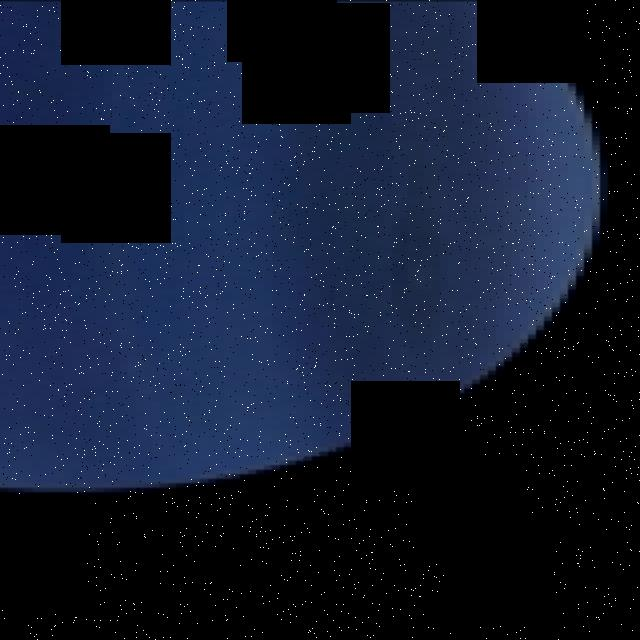Neptune: (0, 0, 608, 496)
